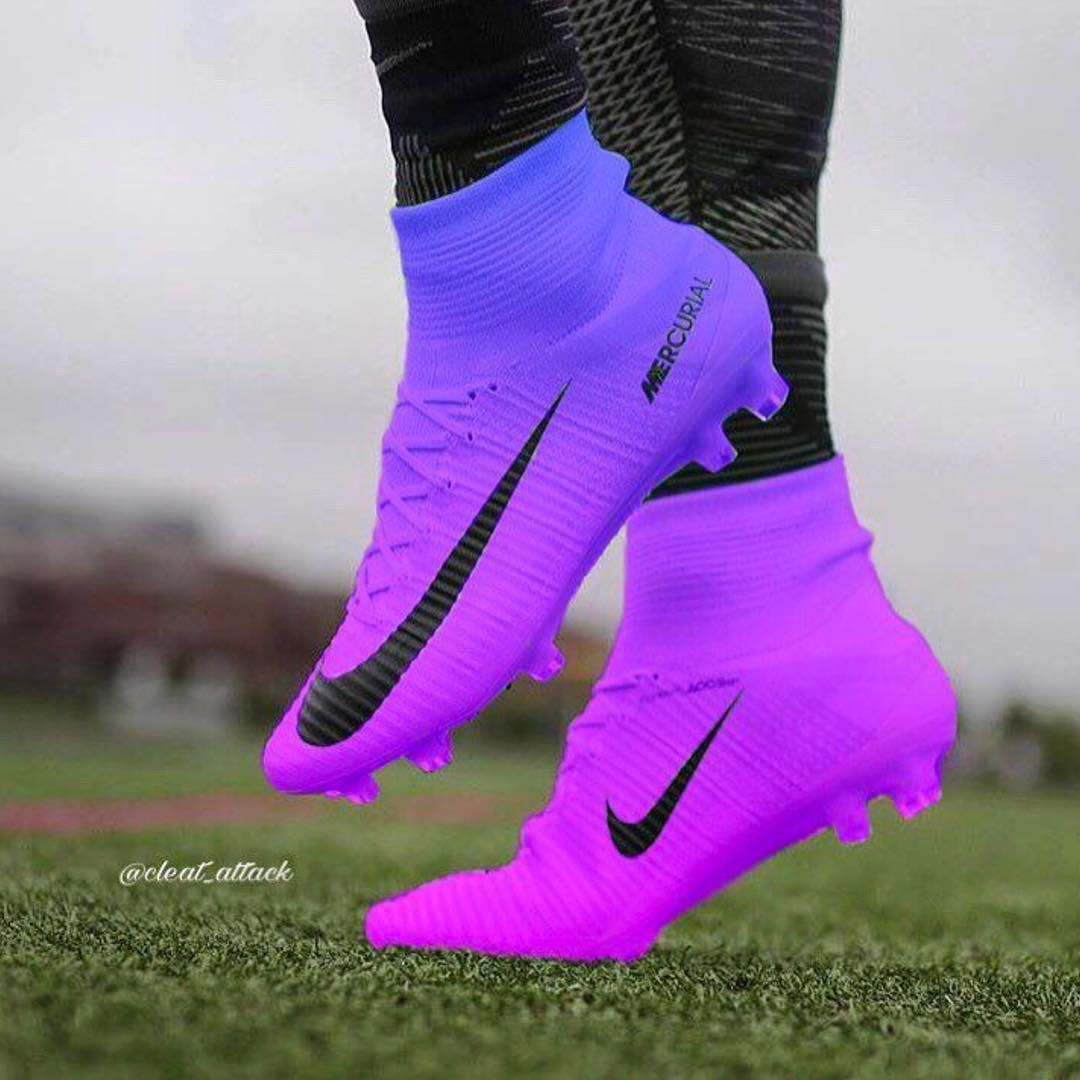football boots: (258, 107, 787, 804), (362, 453, 960, 957)
